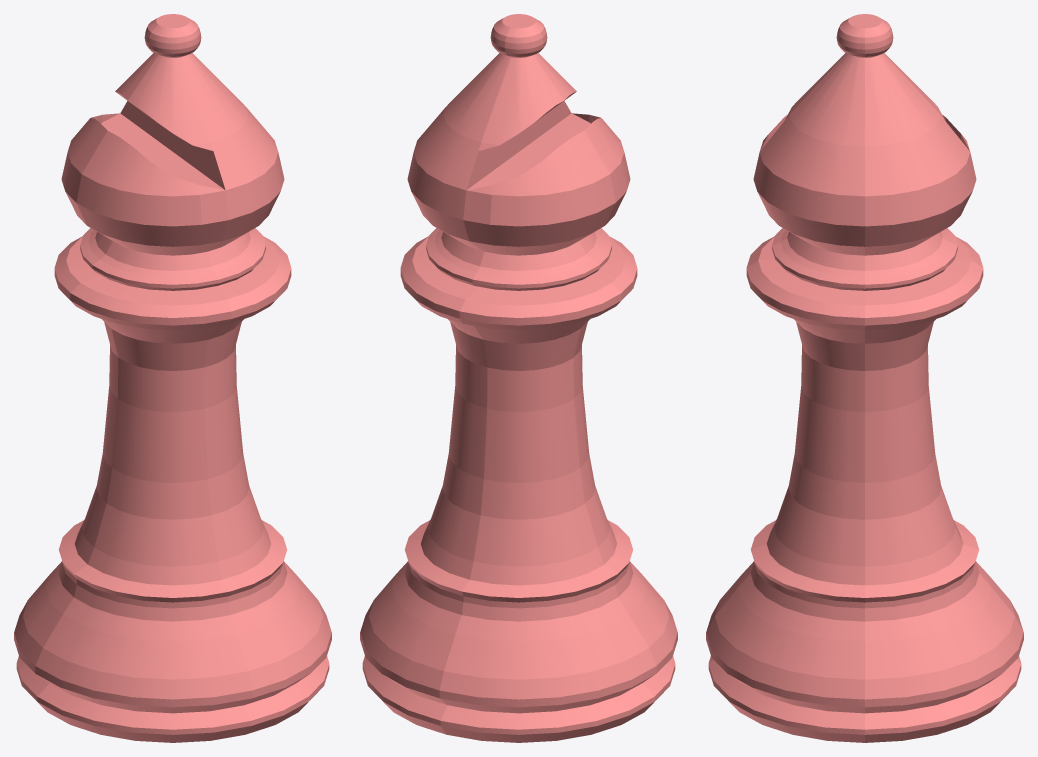
The model's file is bishop.dae.
The picture shows the model from 3 angles, left to right: view 1: azimuth 30°, elevation 25°; view 2: azimuth 150°, elevation 25°; view 3: azimuth 270°, elevation 25°; orthographic projection.
Parts seen in each view (by area): view 1: SketchUp (×3); view 2: SketchUp (×3); view 3: SketchUp (×3).
Boxes of the visible parts, box(x1,y1,x2,y2) form: SketchUp (×3): box(14, 14, 331, 742); SketchUp (×3): box(360, 14, 677, 742); SketchUp (×3): box(706, 14, 1023, 742).
Size of the model in its own units: 30.77 by 30.77 by 70.59.
